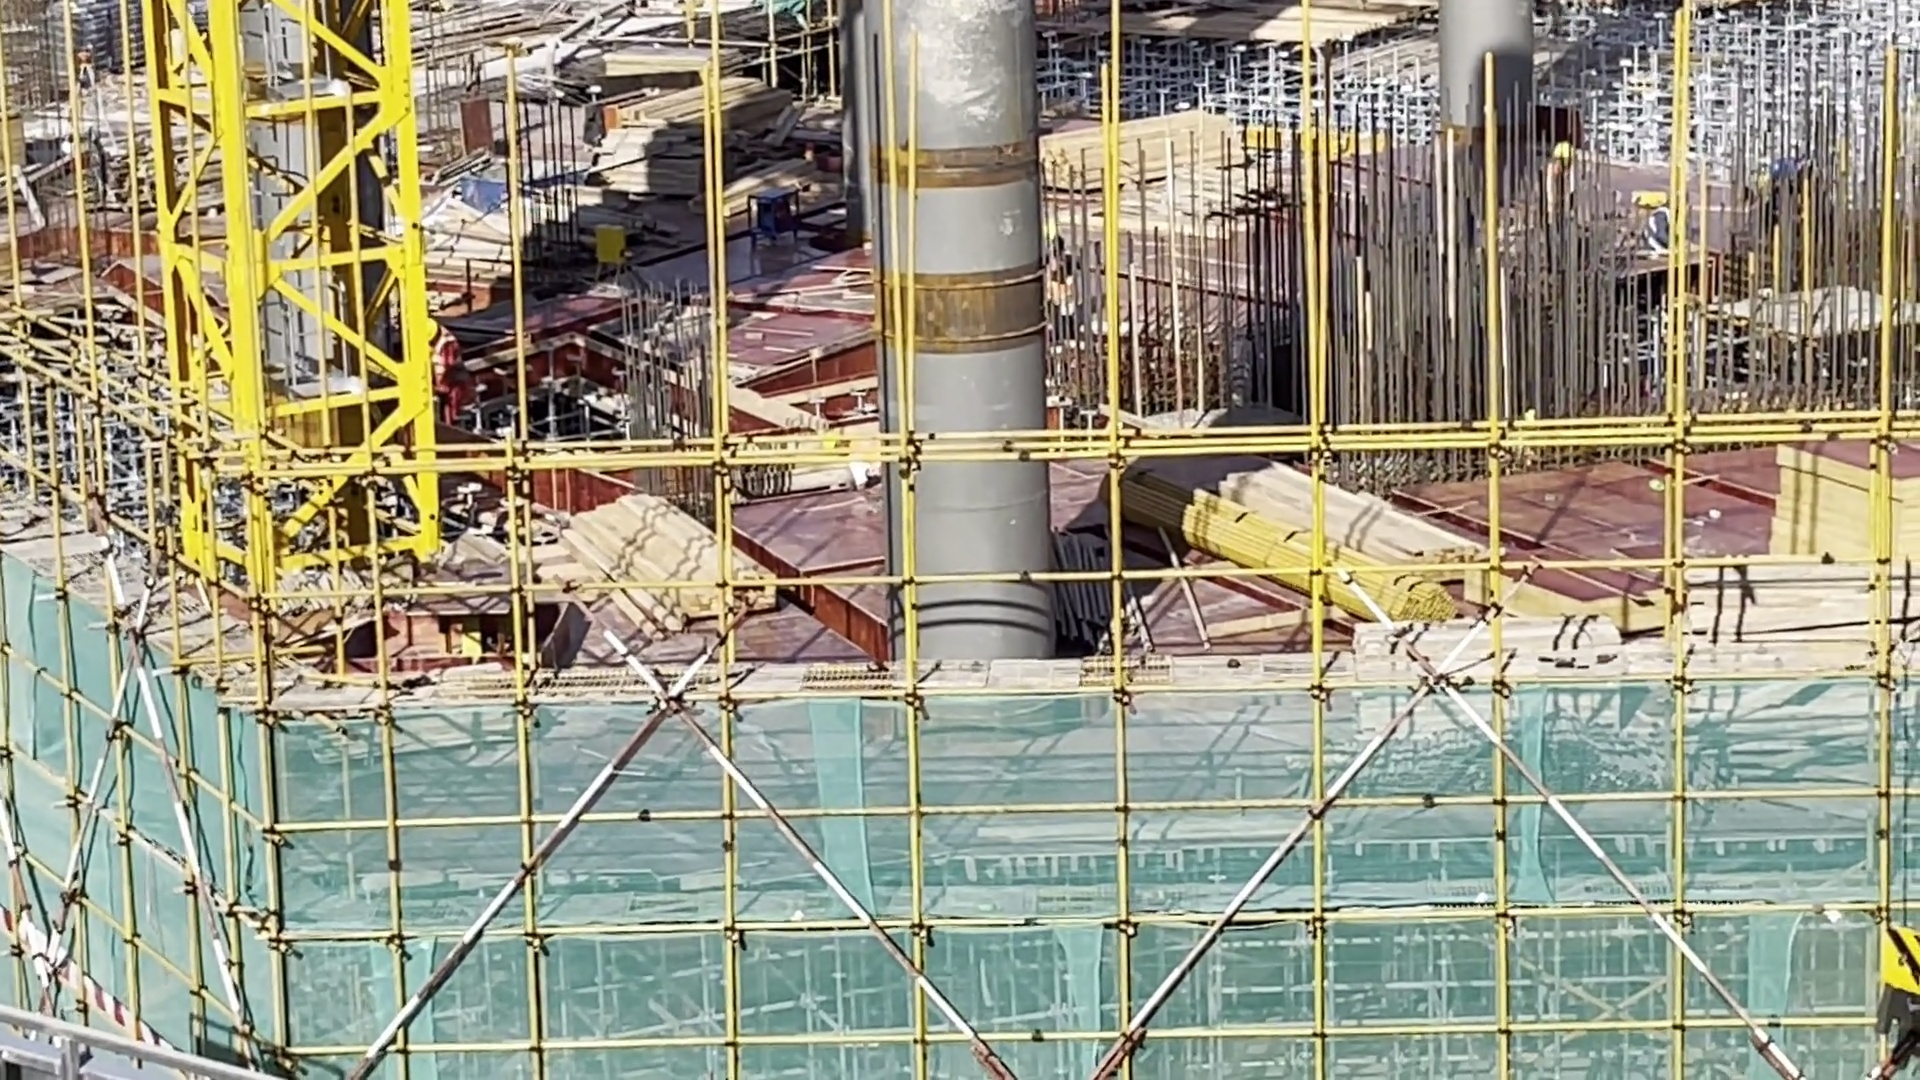board: (1769, 429, 1920, 546), (599, 24, 741, 77)
cutter: (394, 571, 544, 671)
ebox: (584, 221, 621, 269), (461, 619, 483, 661)
helmet: (819, 431, 846, 457), (1771, 159, 1800, 184), (1564, 145, 1582, 166), (1046, 225, 1064, 246)
hopper: (451, 156, 551, 211)
person: (419, 315, 484, 433), (1046, 213, 1096, 345), (818, 417, 904, 492), (1751, 153, 1829, 235), (1542, 128, 1582, 256), (1634, 181, 1692, 261)
vest: (443, 337, 476, 417), (1054, 249, 1093, 311), (1771, 169, 1813, 217), (863, 439, 896, 496), (1644, 211, 1684, 252), (1543, 170, 1569, 212)
wood: (1156, 434, 1513, 592), (558, 502, 789, 654), (1028, 69, 1248, 192), (623, 81, 783, 192)
